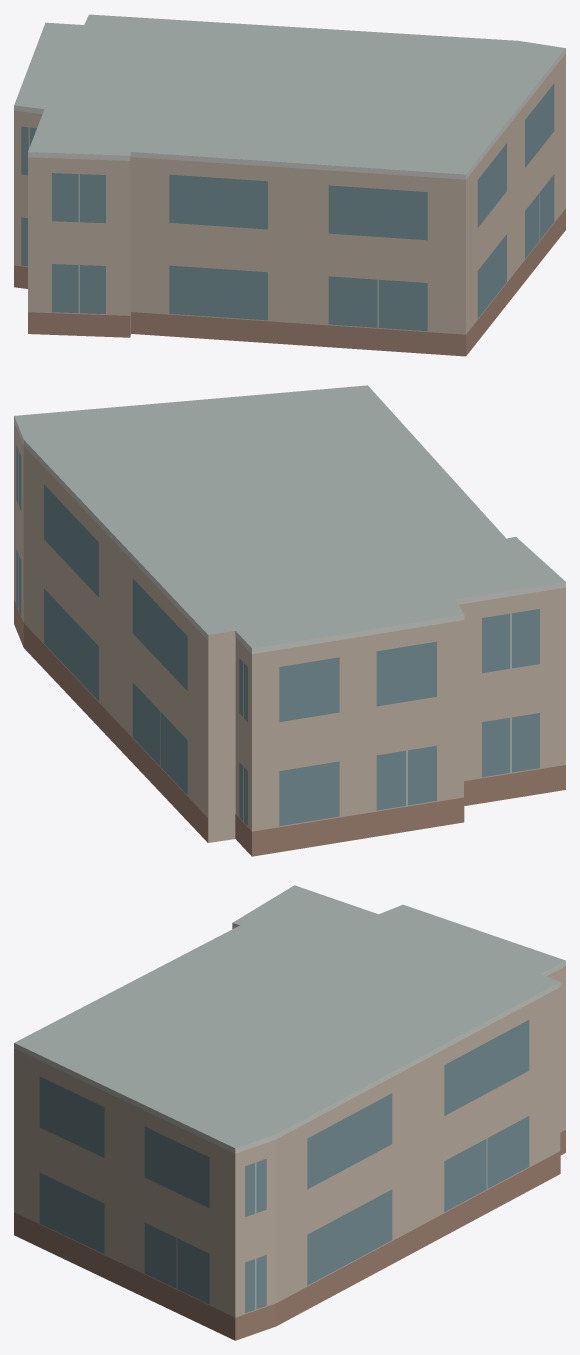
File: survey-upis-32678856.glb
3 renders of one model, top to bottom at view 1: azimuth 30°, elevation 25°; view 2: azimuth 150°, elevation 25°; view 3: azimuth 270°, elevation 25°, orthographic. The views are drawn at different scales.
Visible parts, largest first — view 1: survey-upis-32678856.tmp; view 2: survey-upis-32678856.tmp; view 3: survey-upis-32678856.tmp.
Boxes of the visible parts, box(x1,y1,x2,y2) form: survey-upis-32678856.tmp: box(14, 14, 565, 356); survey-upis-32678856.tmp: box(14, 385, 565, 856); survey-upis-32678856.tmp: box(14, 885, 565, 1340).
Bounding box in the file's own units: 25.4 × 8.65 × 22.5.
